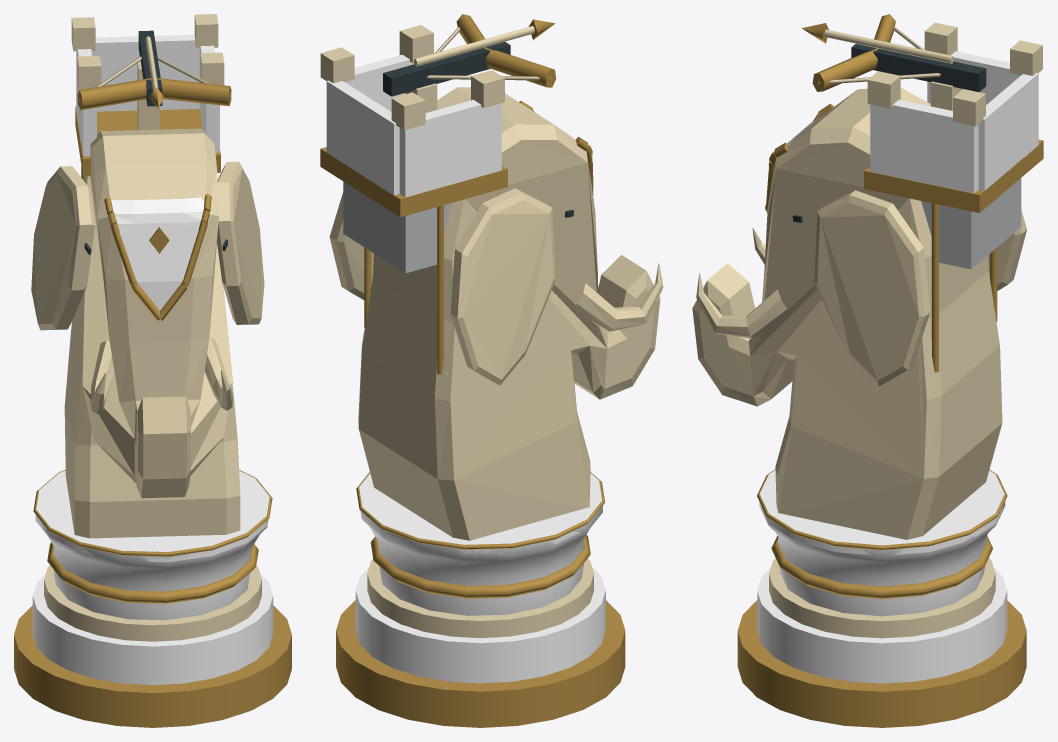
Rendered from ballistaElephant.glb.
The picture shows the model from 3 angles, left to right: view 1: azimuth 30°, elevation 25°; view 2: azimuth 150°, elevation 25°; view 3: azimuth 270°, elevation 25°; orthographic projection. The views are drawn at different scales.
Visible parts, largest first — view 1: Continuous carved elephant and curled trunk, Trim plinth, Enamel base, Elephant low enamel socket, Elephant carved ear -1, Elephant enamel war brow cloth, Elephant carved ear 1, Elephant solid socket, Ivory base bead, Siege elephant rear parapet, Trim elephant seat bead, Siege elephant howdah deck (+13 smaller); view 2: Continuous carved elephant and curled trunk, Elephant carved ear -1, Trim plinth, Enamel base, Elephant low enamel socket, Siege elephant tower wall -1, Ivory base bead, Siege elephant rear parapet, Siege elephant saddle support, Elephant solid socket, Siege elephant howdah deck, Trim elephant seat bead (+12 smaller); view 3: Continuous carved elephant and curled trunk, Elephant carved ear 1, Trim plinth, Enamel base, Elephant low enamel socket, Siege elephant tower wall 1, Ivory base bead, Elephant solid socket, Siege elephant rear parapet, Siege elephant saddle support, Siege elephant howdah deck, Trim elephant seat bead (+13 smaller).
Boxes of the visible parts, x1=… form: Continuous carved elephant and curled trunk: x1=64, y1=128, x2=240, y2=538; Trim plinth: x1=14, y1=605, x2=291, y2=727; Enamel base: x1=32, y1=573, x2=273, y2=685; Elephant low enamel socket: x1=35, y1=514, x2=268, y2=620; Elephant carved ear -1: x1=31, y1=166, x2=94, y2=330; Elephant enamel war brow cloth: x1=111, y1=197, x2=204, y2=310; Elephant carved ear 1: x1=217, y1=161, x2=264, y2=324; Elephant solid socket: x1=36, y1=470, x2=269, y2=562; Ivory base bead: x1=44, y1=565, x2=261, y2=641; Siege elephant rear parapet: x1=91, y1=35, x2=199, y2=111; Trim elephant seat bead: x1=47, y1=542, x2=258, y2=603; Siege elephant howdah deck: x1=75, y1=106, x2=220, y2=176; Continuous carved elephant and curled trunk: x1=358, y1=87, x2=660, y2=540; Elephant carved ear -1: x1=450, y1=188, x2=555, y2=385; Trim plinth: x1=336, y1=600, x2=625, y2=727; Enamel base: x1=355, y1=567, x2=605, y2=683; Elephant low enamel socket: x1=360, y1=506, x2=602, y2=615; Siege elephant tower wall -1: x1=399, y1=99, x2=501, y2=197; Ivory base bead: x1=367, y1=558, x2=593, y2=638; Siege elephant rear parapet: x1=326, y1=80, x2=399, y2=195; Siege elephant saddle support: x1=343, y1=181, x2=452, y2=273; Elephant solid socket: x1=359, y1=473, x2=602, y2=555; Siege elephant howdah deck: x1=320, y1=147, x2=507, y2=217; Trim elephant seat bead: x1=370, y1=535, x2=590, y2=598; Continuous carved elephant and curled trunk: x1=692, y1=88, x2=1002, y2=539; Elephant carved ear 1: x1=814, y1=190, x2=930, y2=386; Trim plinth: x1=737, y1=600, x2=1026, y2=727; Enamel base: x1=757, y1=568, x2=1007, y2=683; Elephant low enamel socket: x1=759, y1=501, x2=1005, y2=616; Siege elephant tower wall 1: x1=870, y1=100, x2=978, y2=193; Ivory base bead: x1=769, y1=558, x2=995, y2=638; Elephant solid socket: x1=759, y1=470, x2=1004, y2=554; Siege elephant rear parapet: x1=978, y1=73, x2=1038, y2=190; Siege elephant saddle support: x1=921, y1=178, x2=1021, y2=269; Siege elephant howdah deck: x1=864, y1=139, x2=1043, y2=212; Trim elephant seat bead: x1=771, y1=536, x2=992, y2=599.
Size of the model in its own units: 0.4774 by 1.13 by 0.5696.
